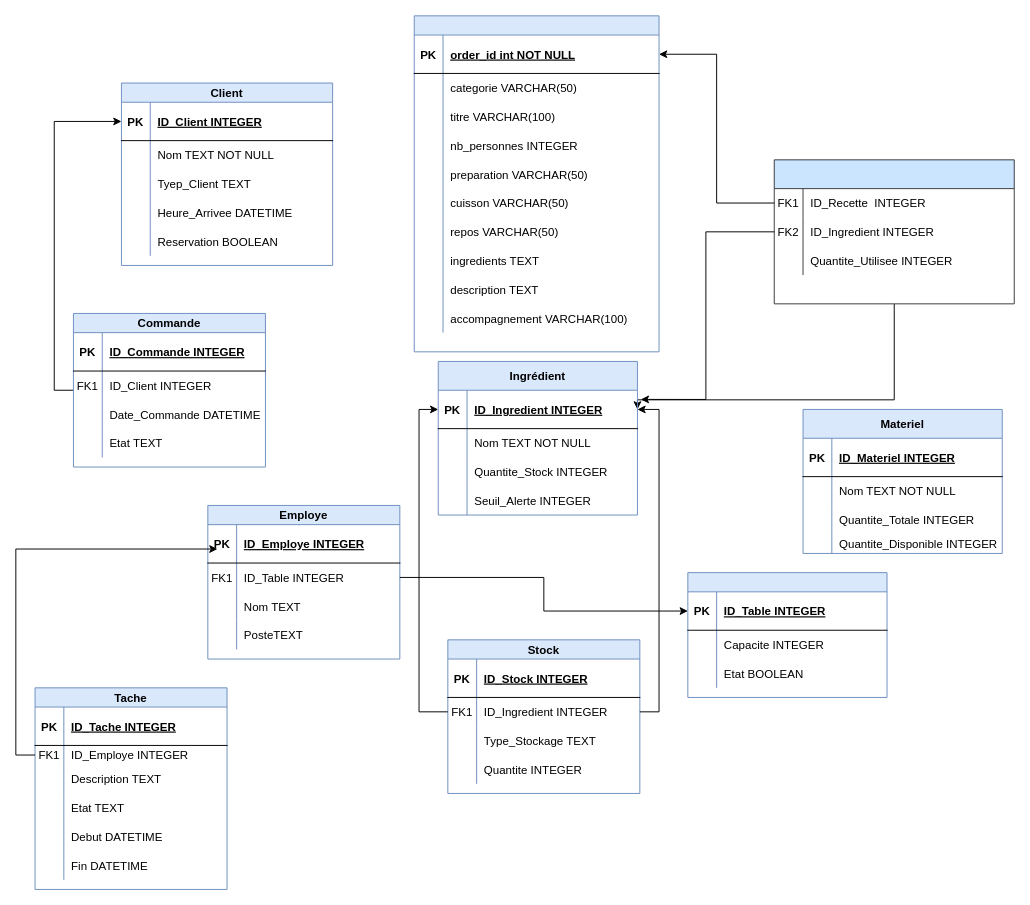
Some shapes in this 1030 by 905 pixel diagram are drawn without their labels. The box of each missing label's shape, as (x1, y1, x2, y2) in pixels:
Recette: (413, 15, 659, 352)
Recette_Ingredient: (773, 159, 1014, 304)
Table_Restaurant: (687, 572, 887, 697)
